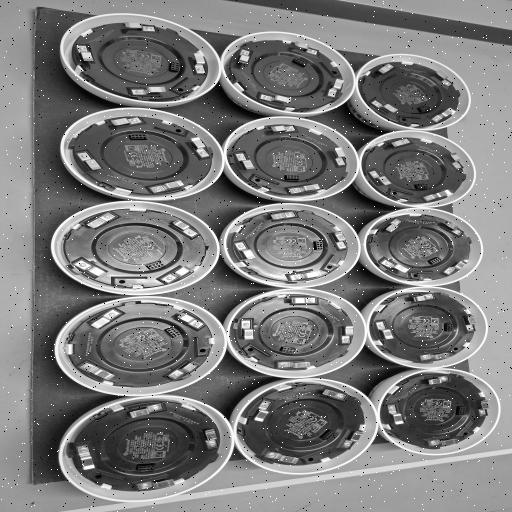konnektor: (277, 345, 304, 355), (134, 462, 158, 473), (162, 327, 184, 339), (145, 259, 166, 271), (320, 429, 338, 442), (127, 132, 150, 142), (290, 58, 311, 68), (444, 320, 457, 335), (166, 61, 182, 73), (427, 255, 444, 266), (282, 174, 304, 182), (455, 404, 467, 418), (312, 238, 326, 250), (418, 103, 434, 113), (416, 181, 430, 191)
yaysiz: (119, 402, 166, 421), (79, 362, 120, 383), (72, 259, 111, 280), (80, 212, 118, 232), (247, 400, 276, 426), (168, 358, 202, 380), (75, 444, 99, 474), (74, 152, 106, 174), (88, 309, 120, 331), (149, 178, 190, 195), (136, 476, 182, 491), (73, 43, 101, 67), (123, 84, 171, 98), (165, 218, 200, 237), (262, 451, 306, 466), (375, 318, 400, 344), (284, 40, 321, 57), (184, 134, 210, 158), (338, 426, 364, 450), (369, 97, 400, 117), (257, 92, 298, 107), (120, 20, 156, 37), (170, 311, 206, 328), (161, 265, 193, 284), (236, 318, 259, 344), (233, 151, 260, 173), (366, 168, 394, 189), (188, 50, 210, 76), (386, 402, 408, 428), (104, 116, 144, 130), (233, 240, 257, 263), (198, 425, 221, 449), (275, 358, 316, 371), (288, 268, 326, 282), (324, 76, 346, 100), (380, 259, 413, 275), (424, 434, 463, 447), (432, 105, 460, 123), (261, 210, 297, 224), (443, 257, 471, 275), (312, 388, 348, 402), (430, 68, 454, 88), (288, 182, 327, 194), (442, 150, 464, 171), (326, 229, 348, 250), (403, 292, 440, 304), (328, 145, 348, 167), (423, 188, 454, 202), (336, 322, 354, 346), (418, 350, 454, 362), (369, 63, 399, 77), (458, 313, 478, 334), (380, 218, 404, 235), (436, 220, 464, 234), (233, 50, 256, 67), (422, 374, 454, 386), (472, 397, 490, 418), (265, 125, 298, 136), (280, 297, 318, 306), (387, 139, 412, 148)
